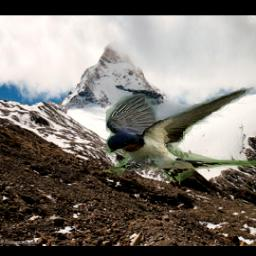Swallow: (106, 87, 256, 182)
